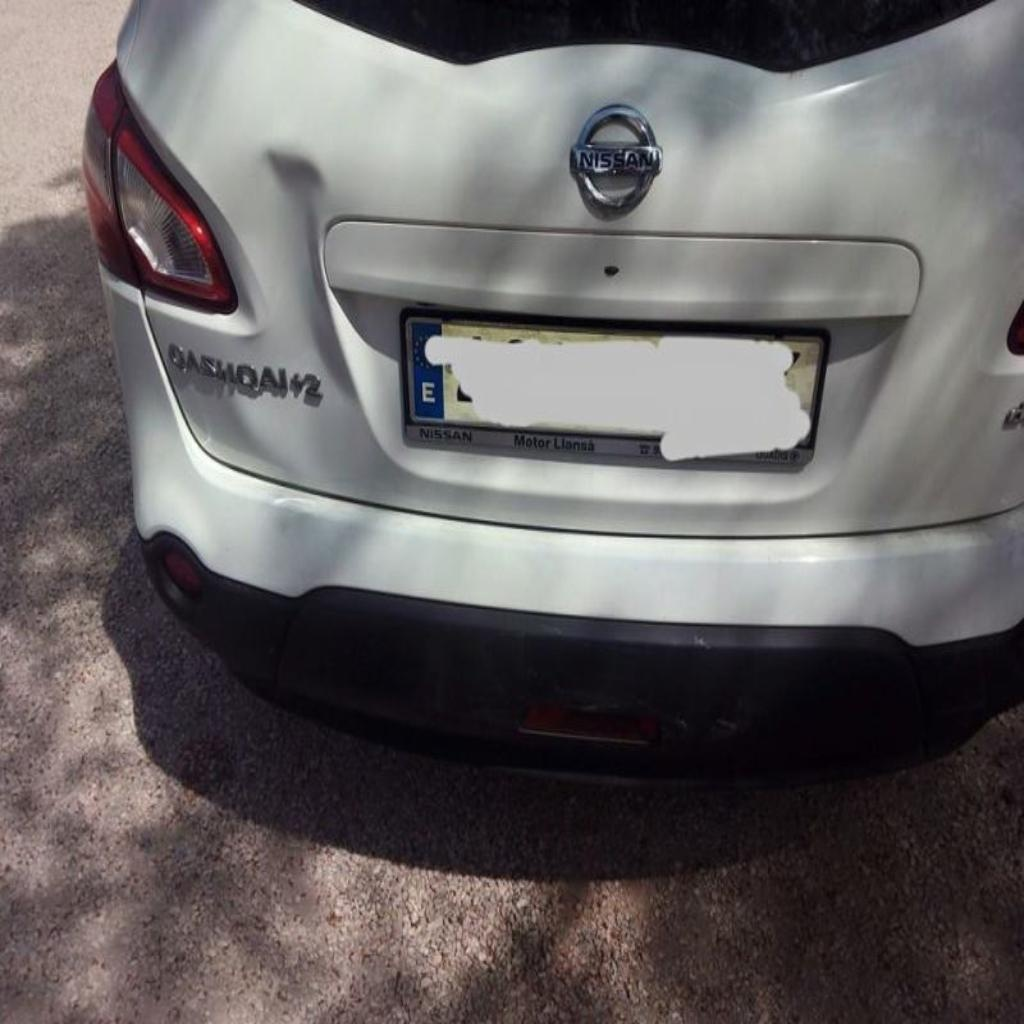Dent: (242, 139, 322, 212)
